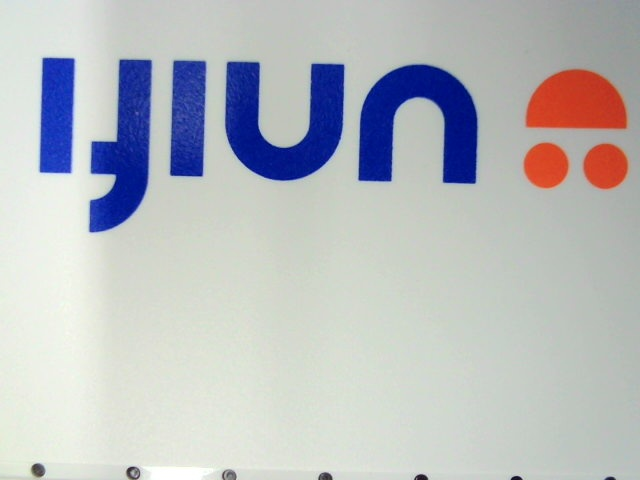BN_unifi: (19, 49, 628, 236)
